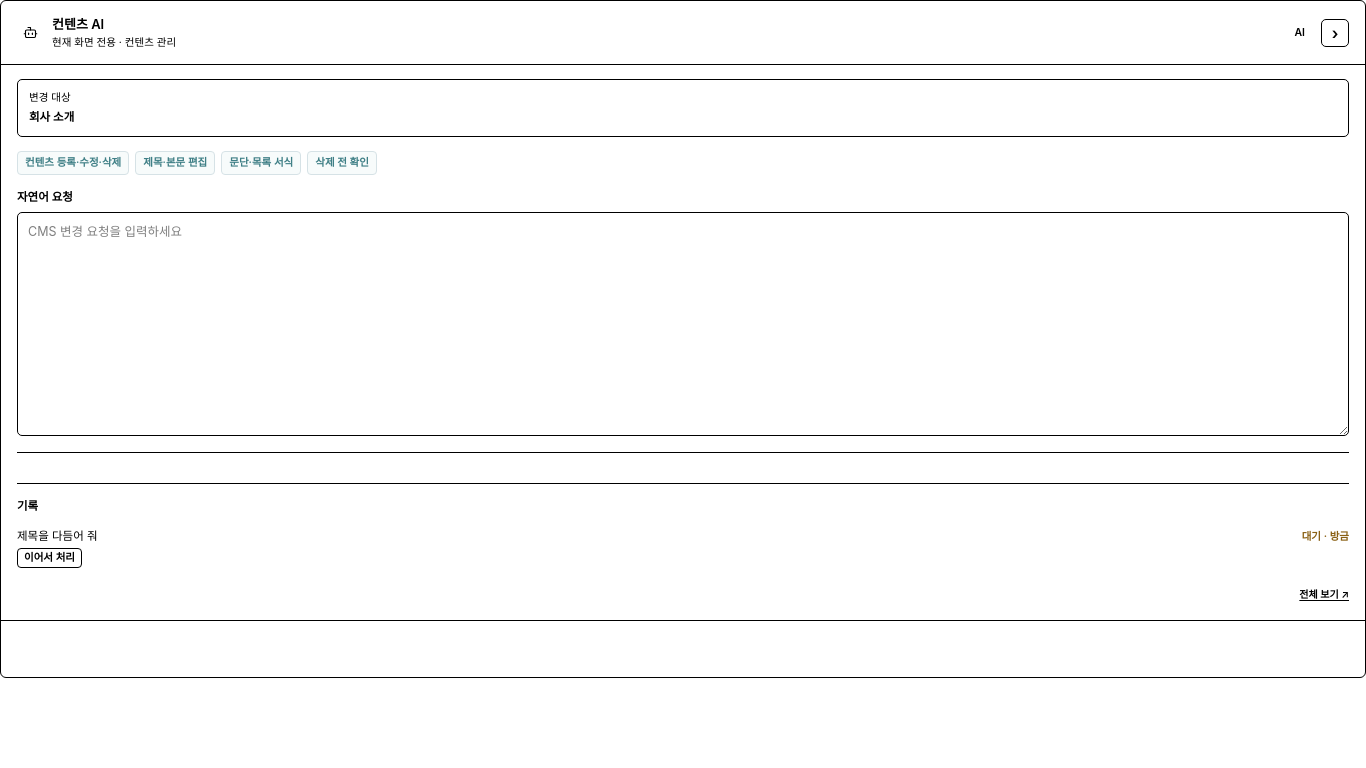
Test case: 기록 › 대기 행은 이어서 처리로 승인 화면을 다시 연다
This screenshot has width=1366, height=768.
Click the button "이어서 처리": (50, 558) [17,548,82,568]
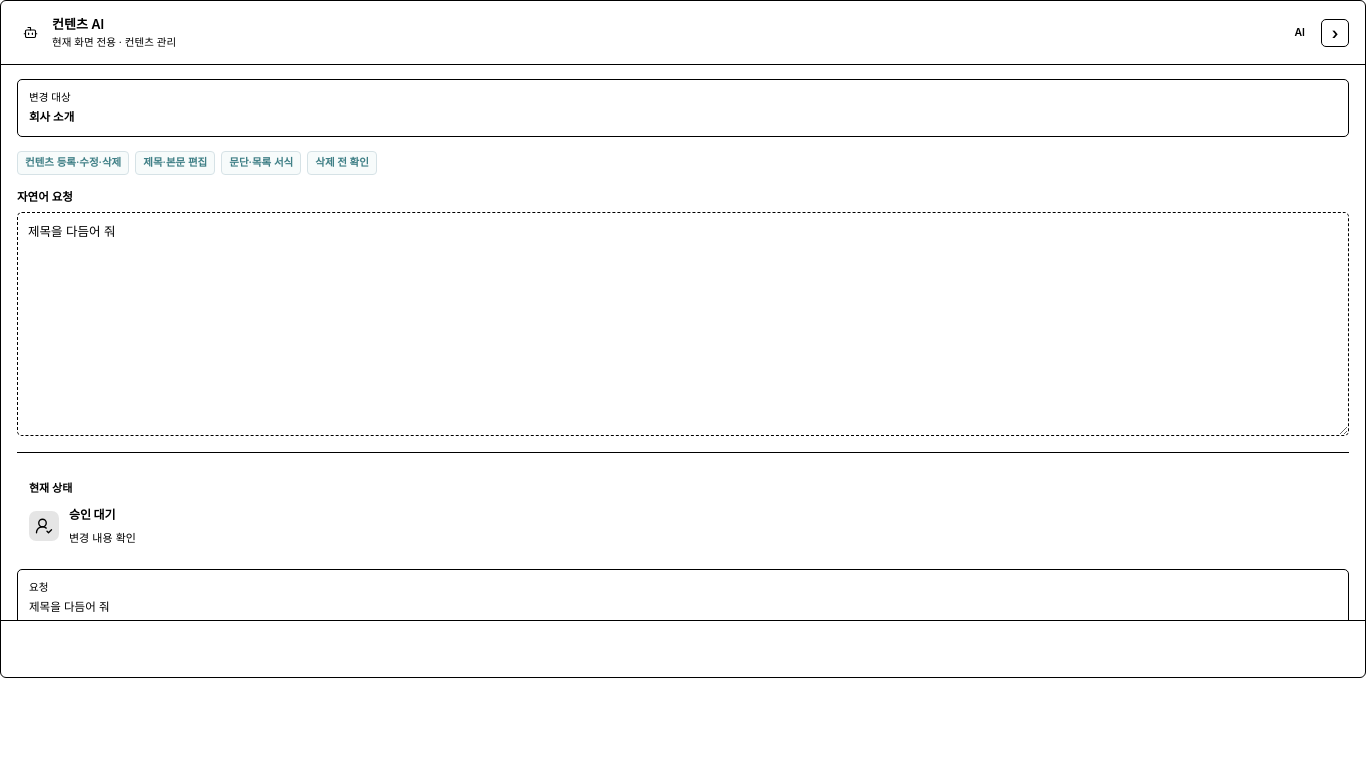
Now the text box labelled "자연어 요청" holds "제목을 다듬어 줘", box [17,212,1349,436]
